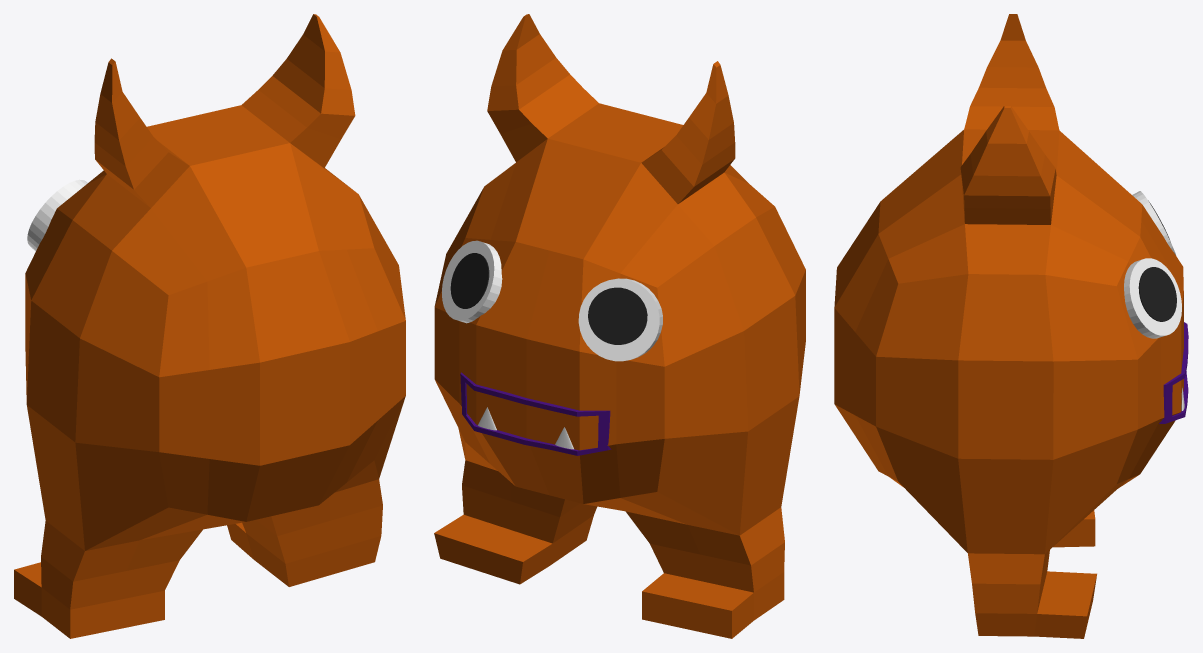
The model's file is enemyparaunity.fbx.
The picture shows the model from 3 angles, left to right: view 1: azimuth 30°, elevation 25°; view 2: azimuth 150°, elevation 25°; view 3: azimuth 270°, elevation 25°; orthographic projection. The views are drawn at different scales.
Visible parts, largest first — view 1: Enemy; view 2: Enemy; view 3: Enemy.
Boxes of the visible parts, x1,y1,x2,y2 form: Enemy: (14, 14, 405, 638); Enemy: (434, 14, 805, 638); Enemy: (834, 14, 1188, 638).
Bounding box in the file's own units: 202 × 329 × 204.
Materials: 1 (1 with a texture image).
